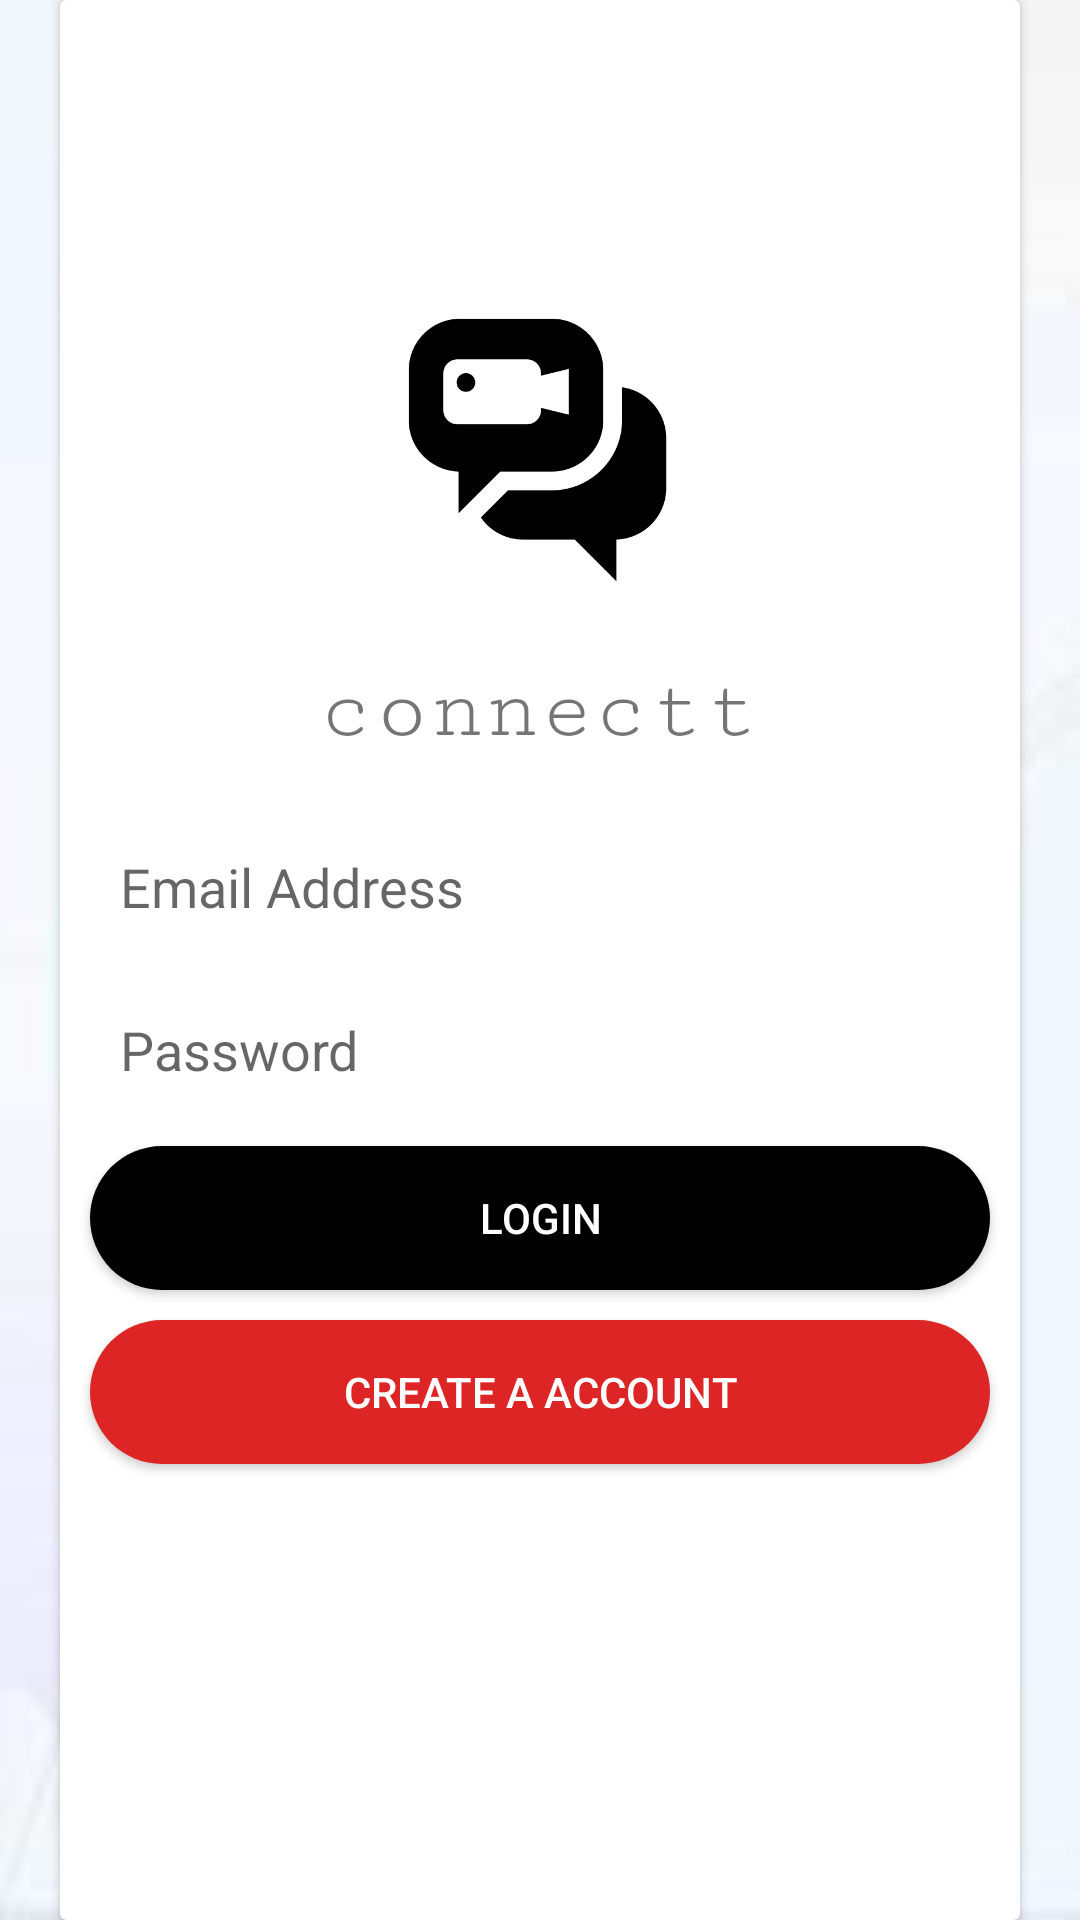

Icon click points for this 1080 × 1920 phone screenshot, format (x,y):
meeting: (538,450)
